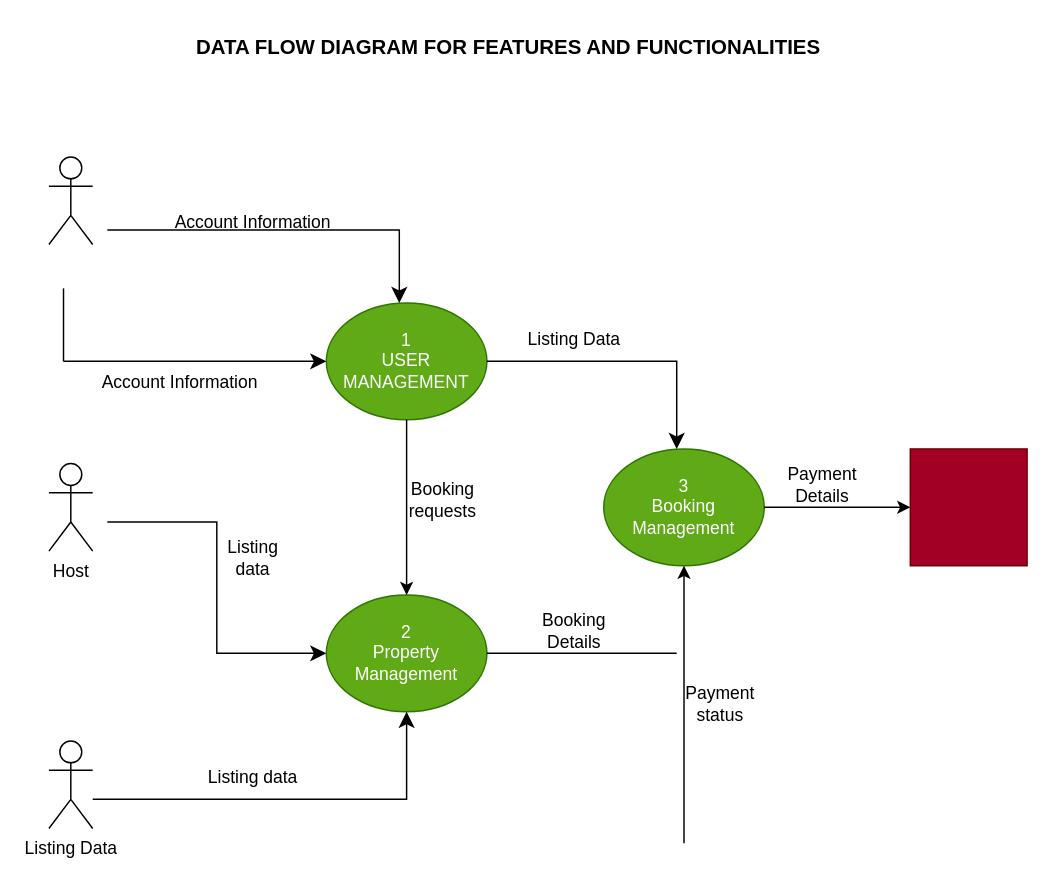
This 1053x883 diagram has some shape labels left out. Each missing label, with the centre of its shape:
"Guest" goes at [70,200].
"Payment Gateway" goes at [968,506].
